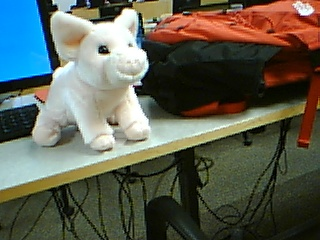piggy: (31, 5, 152, 151)
